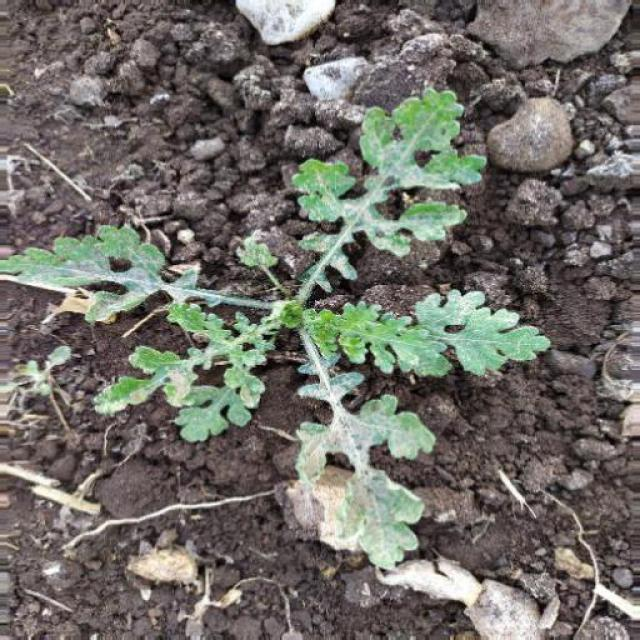weed: (12, 101, 550, 492)
